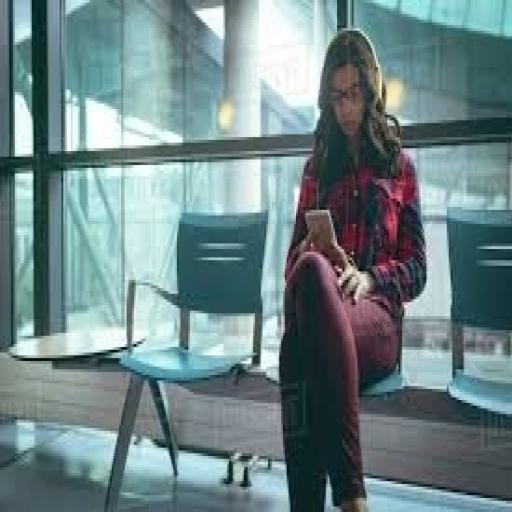listening_to_music: (277, 25, 430, 509)
